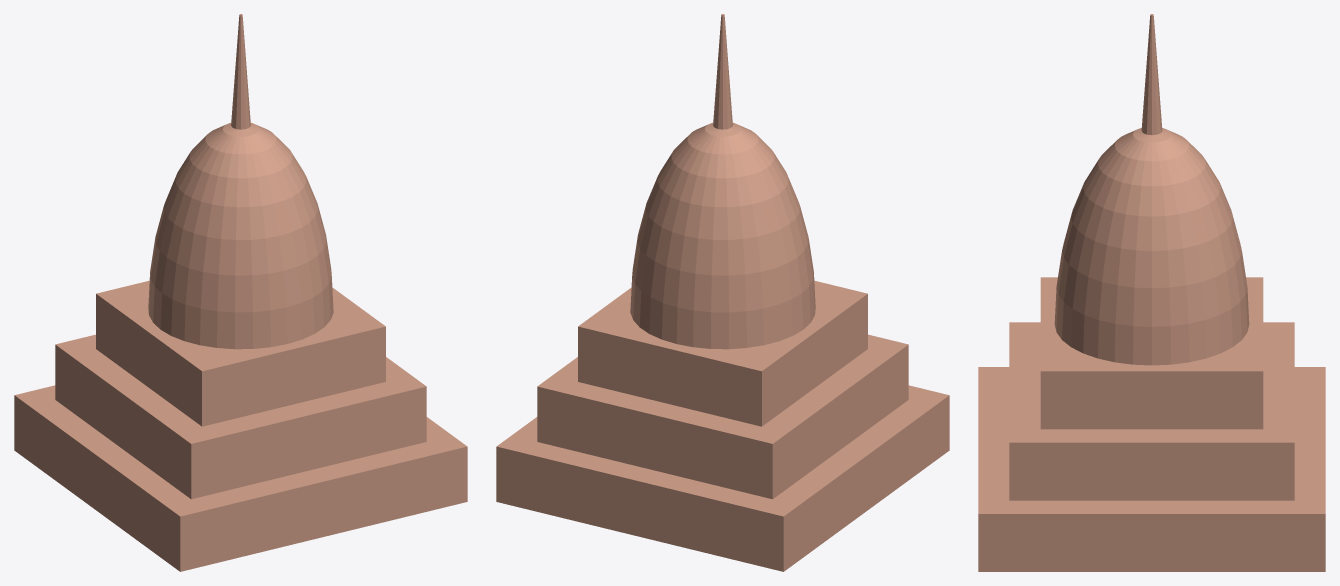
Rendered from place-sarnath.glb.
3 views of the same model, side by side, from view 1: azimuth 30°, elevation 25°; view 2: azimuth 150°, elevation 25°; view 3: azimuth 270°, elevation 25° (orthographic). The views are drawn at different scales.
Visible parts, largest first — view 1: place-sarnath; view 2: place-sarnath; view 3: place-sarnath.
Part boxes in pixels (bbox=[...]): place-sarnath: bbox=[14, 14, 467, 571]; place-sarnath: bbox=[496, 14, 949, 571]; place-sarnath: bbox=[978, 14, 1325, 571].
Bounding box in the file's own units: 28 × 43 × 28.
